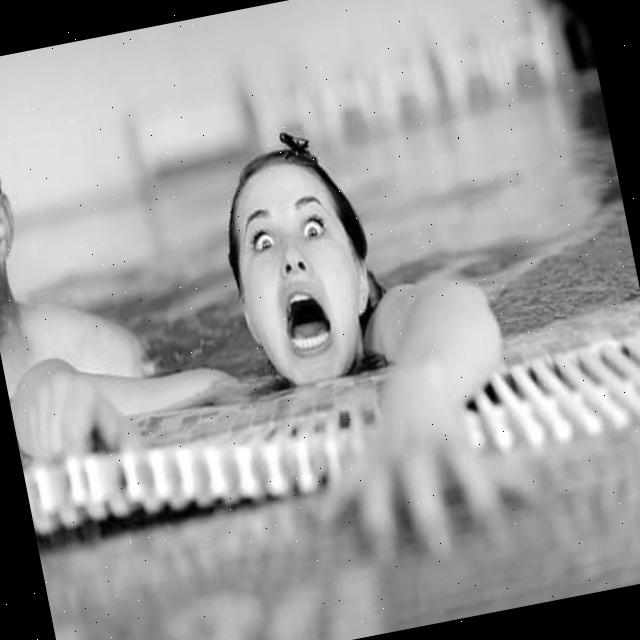Fear: (226, 158, 376, 395)
